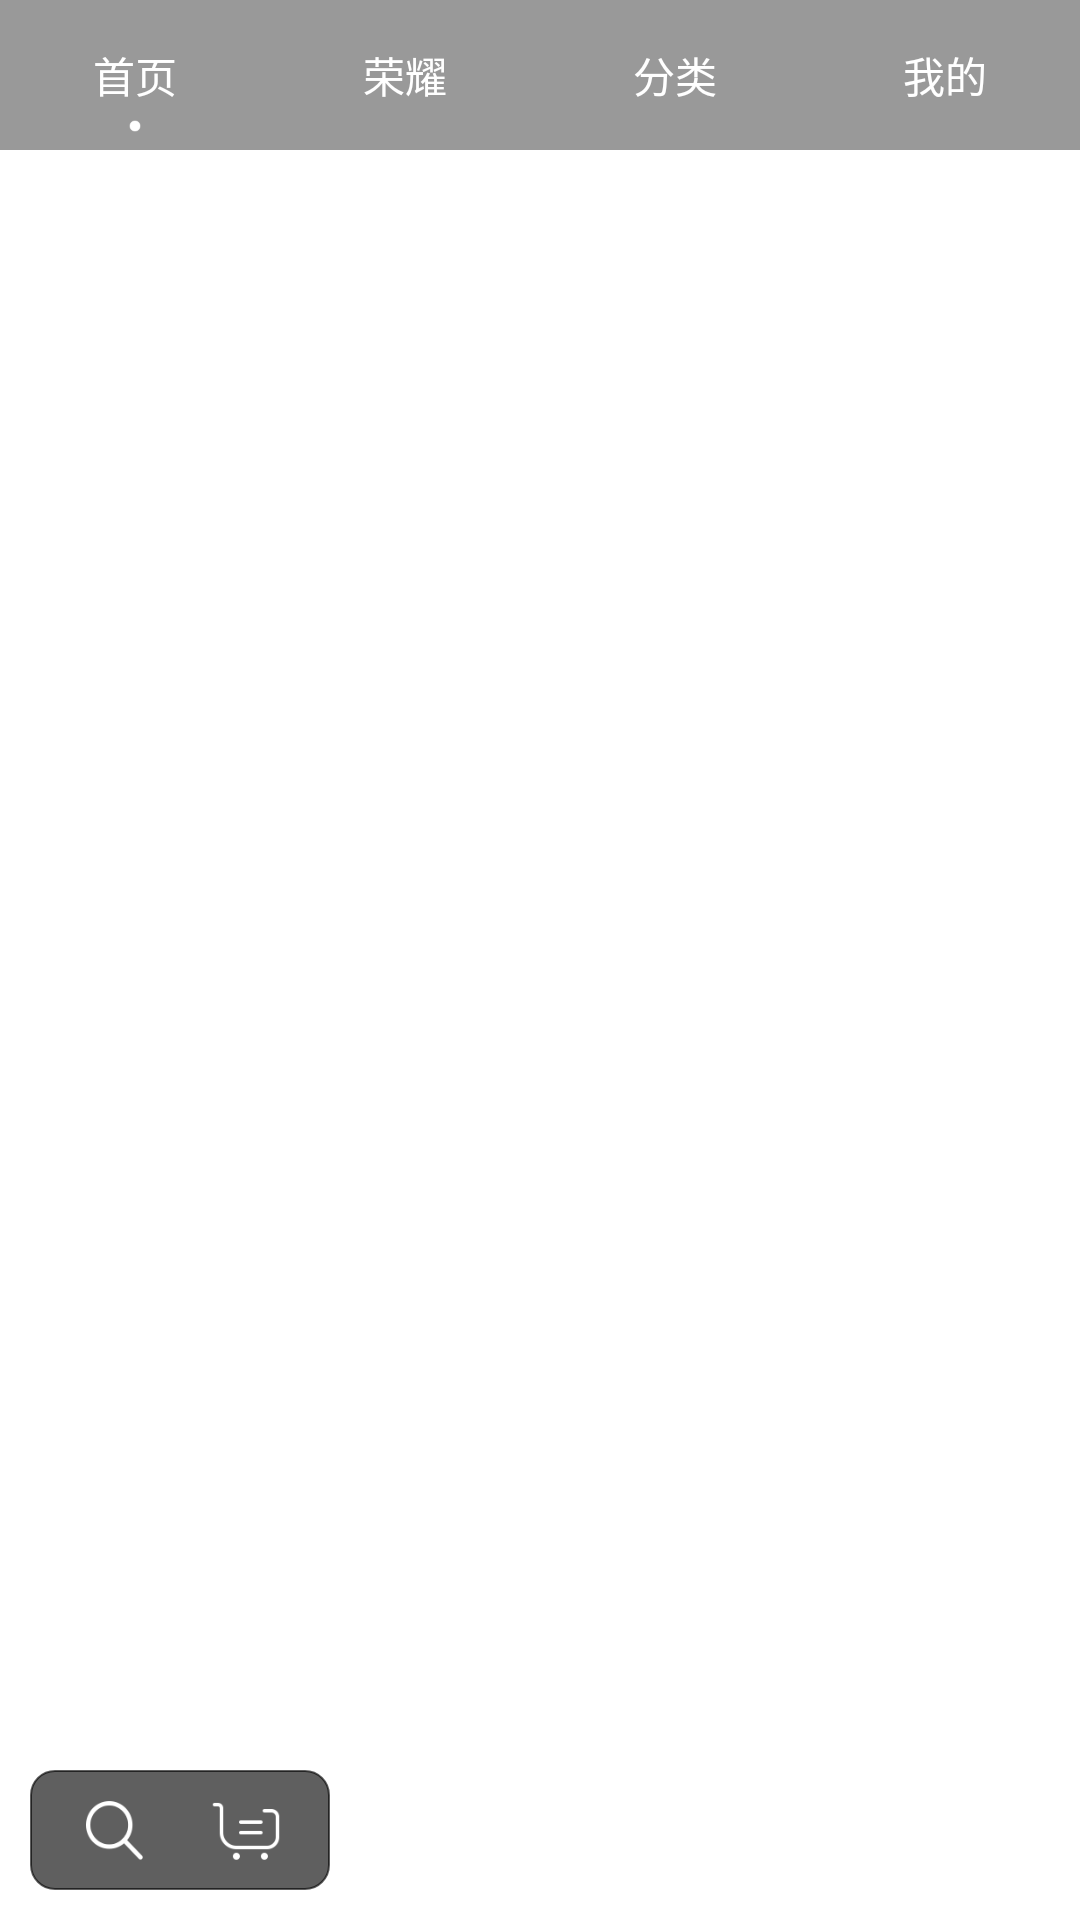

Screen size 1080 × 1920. Icon name, then its center in pixels as (x,y):
search: (114,1830)
shop cart: (246,1831)
